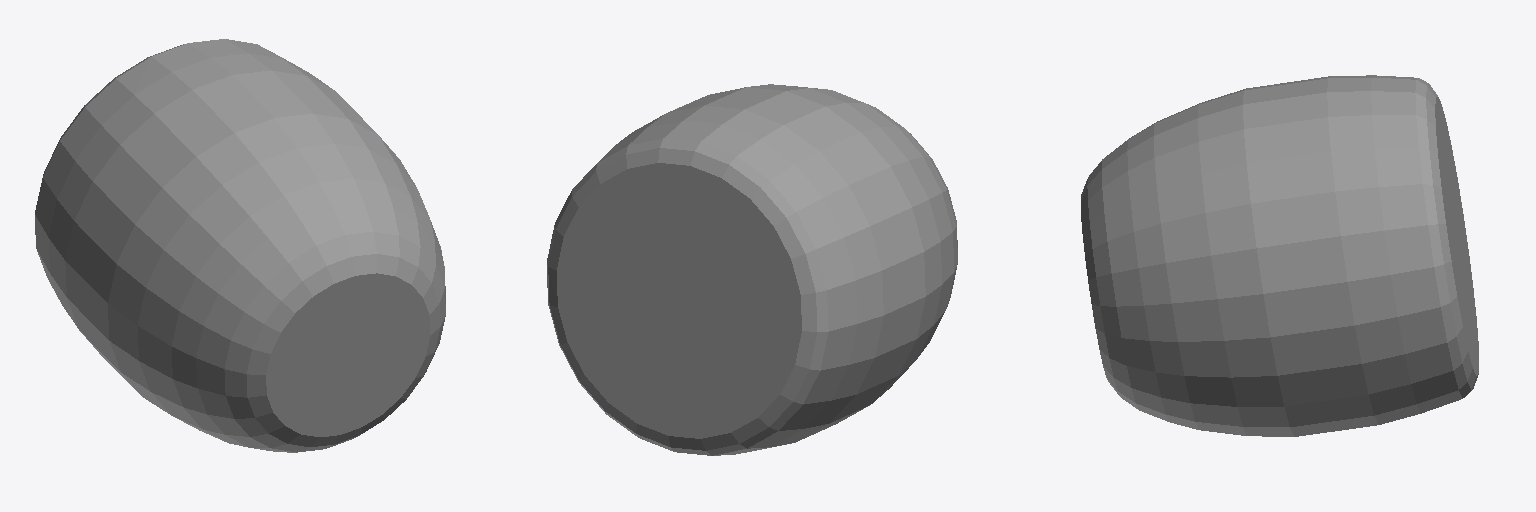
File: drums_1.obj
The picture shows the model from 3 angles: view 1: azimuth 30°, elevation 25°; view 2: azimuth 150°, elevation 25°; view 3: azimuth 270°, elevation 25°; orthographic projection.
Visible parts, largest first — view 1: Cylinder.005; view 2: Cylinder.005; view 3: Cylinder.005.
Part boxes in pixels (left/top/right/bottom): Cylinder.005: left=35, top=39, right=445, bottom=452; Cylinder.005: left=547, top=84, right=957, bottom=455; Cylinder.005: left=1081, top=75, right=1478, bottom=436.
Bounding box in the file's own units: 1.79 × 1.84 × 2.02.